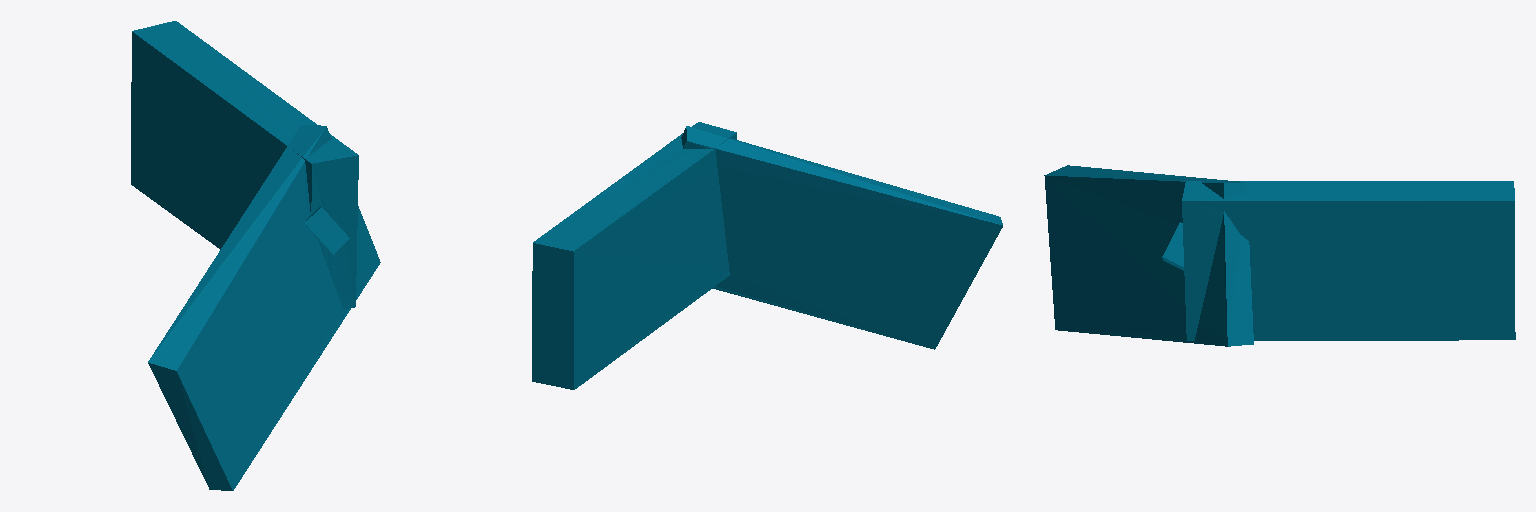
robot.urdf — blob635:

<robot name="blob635">
  <link name="random_obj_635">
    <contact>
      <lateral_friction value="1.0"/>
      <rolling_friction value="0.0"/>
      <inertia_scaling value="3.0"/>
      <contact_cfm value="0.0"/>
      <contact_erp value="1.0"/>
    </contact>
    <inertial>
      <origin rpy="0 0 0" xyz="0 0 0"/>
      <mass value="0.1018"/>
      <inertia ixx="1" ixy="0" ixz="0" iyy="1" iyz="0" izz="0"/>
    </inertial>
    <visual>
      <origin rpy="0 0 0" xyz="0 0 0"/>
      <geometry>
        <mesh filename="635.obj" scale="0.0070 0.0070 0.0070"/>
      </geometry>
      <material name="blockmat">
        <color rgba="0.04 0.49 0.60 1"/>
      </material>
    </visual>
    <collision>
      <origin rpy="0 0 0" xyz="0 0 0"/>
      <geometry>
        <mesh filename="635_coll.obj" scale="0.0070 0.0070 0.0070"/>
      </geometry>
    </collision>
  </link>
</robot>

--- Facts derived from the render (not from the file) ---
Views: 3 orthographic renders of the robot side by side, from view 1: azimuth 30°, elevation 25°; view 2: azimuth 150°, elevation 25°; view 3: azimuth 270°, elevation 25°.
Robot: blob635 — 1 links, 0 joints (none); root link random_obj_635; default pose: every joint at zero.
Links seen in each view (by area): view 1: random_obj_635; view 2: random_obj_635; view 3: random_obj_635.
Link boxes in pixels (box(x1,y1,x2,y2)): random_obj_635: box(131, 21, 380, 490); random_obj_635: box(532, 122, 1002, 389); random_obj_635: box(1044, 165, 1515, 346).
Bounding box of the posed robot: 0.0861 × 0.1203 × 0.0661 m (x, y, z).
Meshes: 1 distinct files referenced, 1 mesh visuals loaded (1 OBJ).
